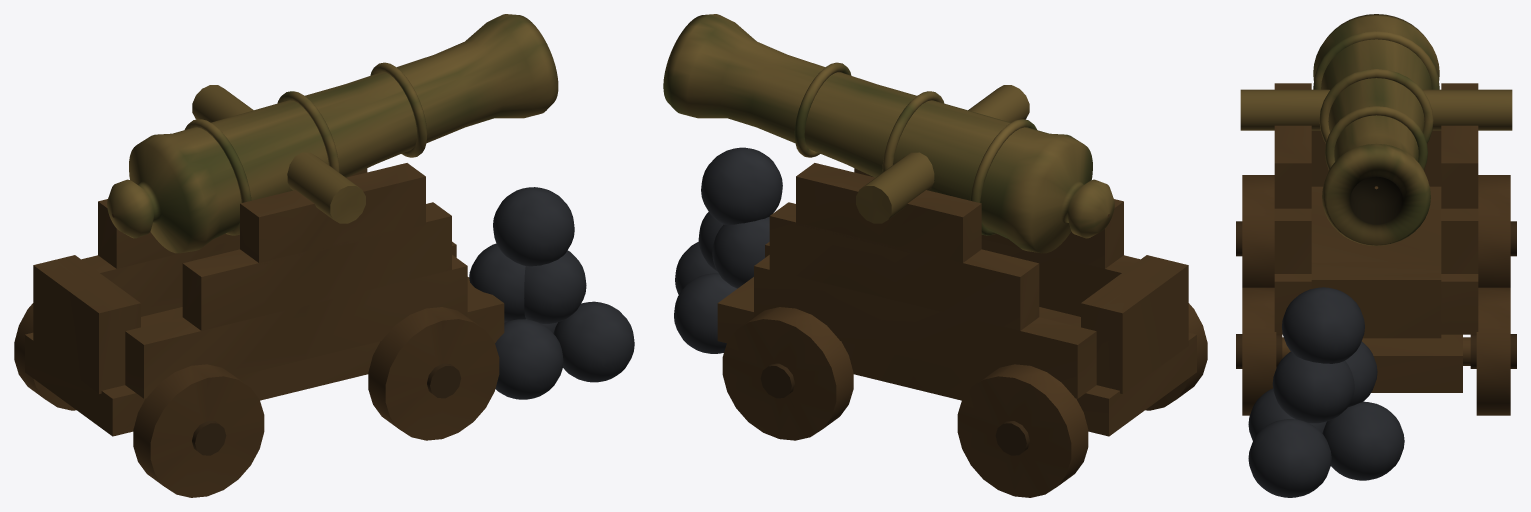
The model's file is cannon.glb.
3 renders of one model, left to right at view 1: azimuth 30°, elevation 25°; view 2: azimuth 150°, elevation 25°; view 3: azimuth 270°, elevation 25°, orthographic.
Parts seen in each view (by area): view 1: carriage, barrel, wheels, cannonballs; view 2: carriage, barrel, wheels, cannonballs; view 3: carriage, barrel, cannonballs, wheels.
Boxes of the visible parts, left/top/right/bottom form: carriage: left=25, top=163, right=504, bottom=436; barrel: left=107, top=14, right=558, bottom=253; wheels: left=14, top=303, right=499, bottom=497; cannonballs: left=469, top=187, right=634, bottom=399; carriage: left=717, top=163, right=1196, bottom=436; barrel: left=663, top=14, right=1114, bottom=253; wheels: left=722, top=303, right=1207, bottom=497; cannonballs: left=674, top=147, right=782, bottom=353; carriage: left=1274, top=83, right=1478, bottom=392; barrel: left=1240, top=14, right=1512, bottom=245; cannonballs: left=1248, top=287, right=1404, bottom=497; wheels: left=1236, top=175, right=1516, bottom=415.
Size of the model in its own units: 210 by 130 by 100.
